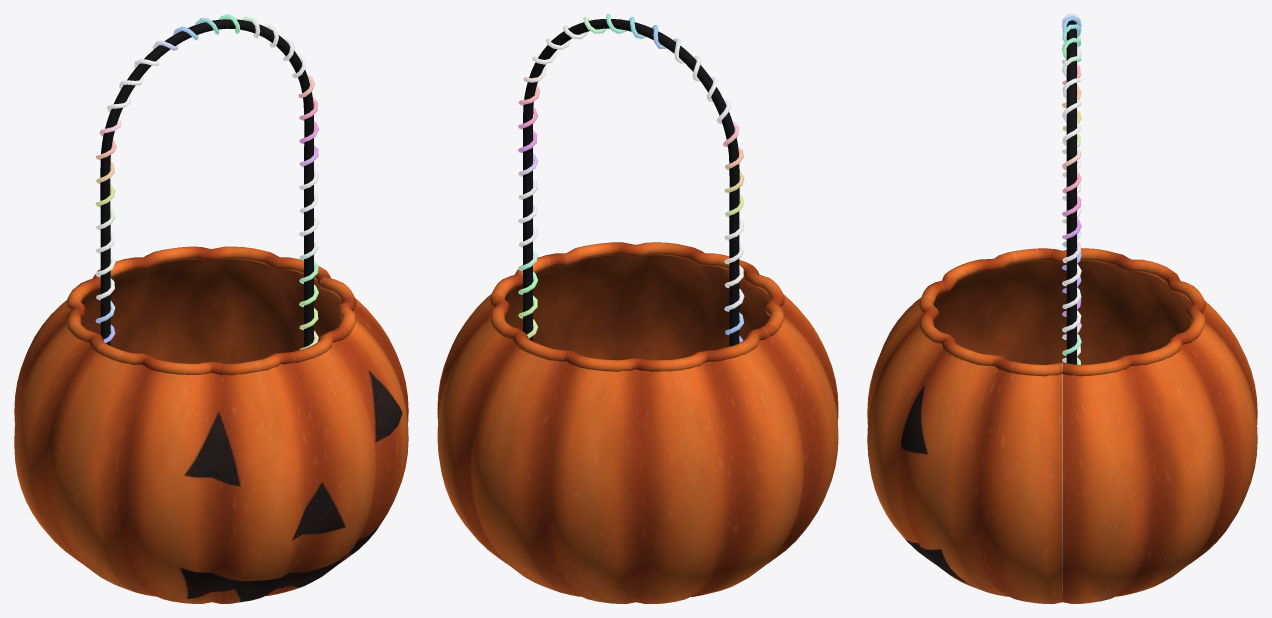
File: candy-bucket.glb
3 renders of one model, left to right at view 1: azimuth 30°, elevation 25°; view 2: azimuth 150°, elevation 25°; view 3: azimuth 270°, elevation 25°, orthographic.
Parts seen in each view (by area): view 1: candy-bucket, handle; view 2: candy-bucket, handle; view 3: candy-bucket, handle.
Part boxes in pixels (x1=…): candy-bucket: x1=14, y1=246, x2=408, y2=603; handle: x1=95, y1=14, x2=318, y2=349; candy-bucket: x1=437, y1=242, x2=838, y2=603; handle: x1=518, y1=14, x2=744, y2=346; candy-bucket: x1=867, y1=248, x2=1257, y2=603; handle: x1=1062, y1=14, x2=1081, y2=364.
Bounding box in the file's own units: 2.16 × 3.31 × 2.14.
3 materials, 2 textured.
